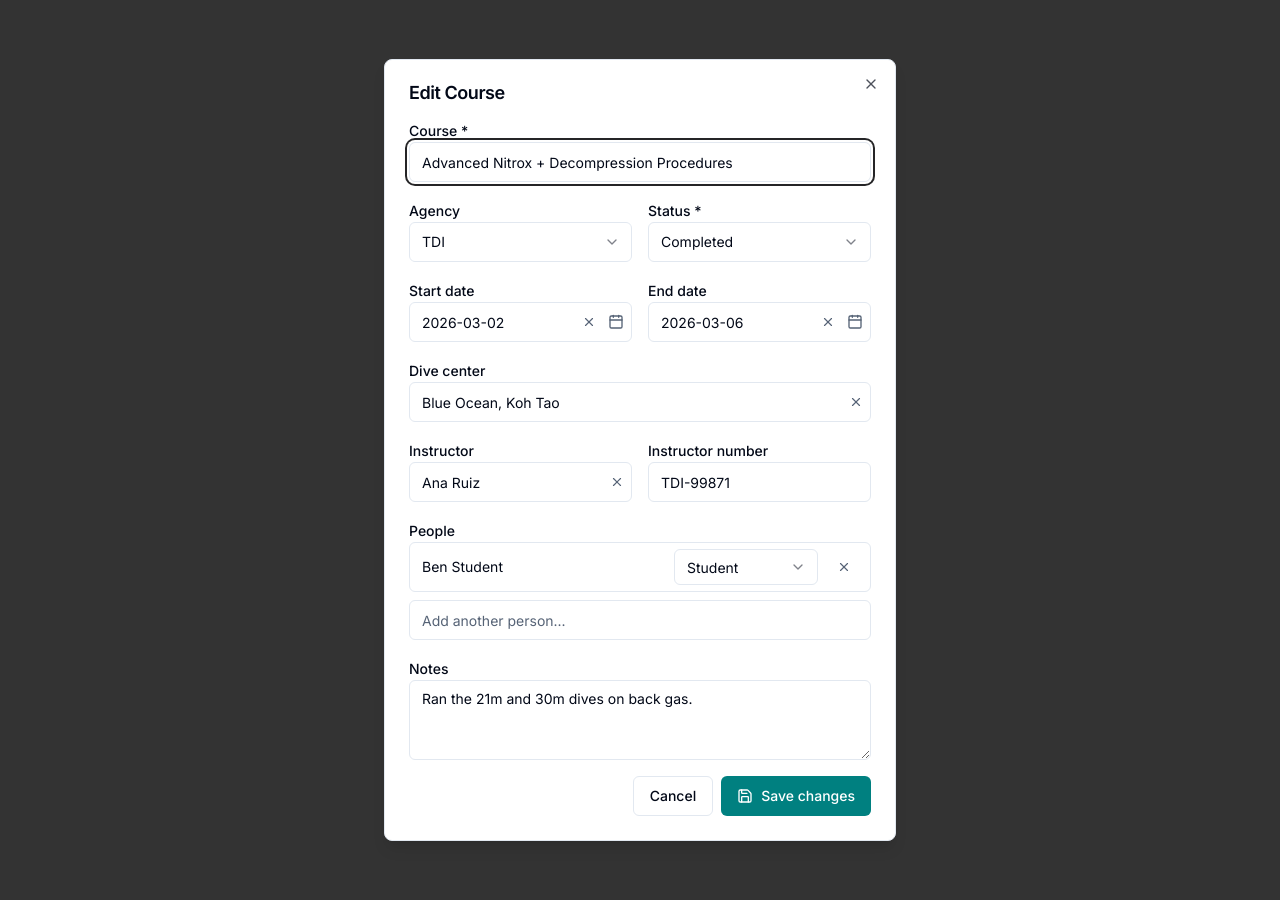
CourseDialog › asks which agency ran the course only when the agency is 'other'
Expected: the field labelled "Agency name *" is not shown
Select "Other" in the dropdown labelled "Agency" at [520, 242], box [409,222,632,262]
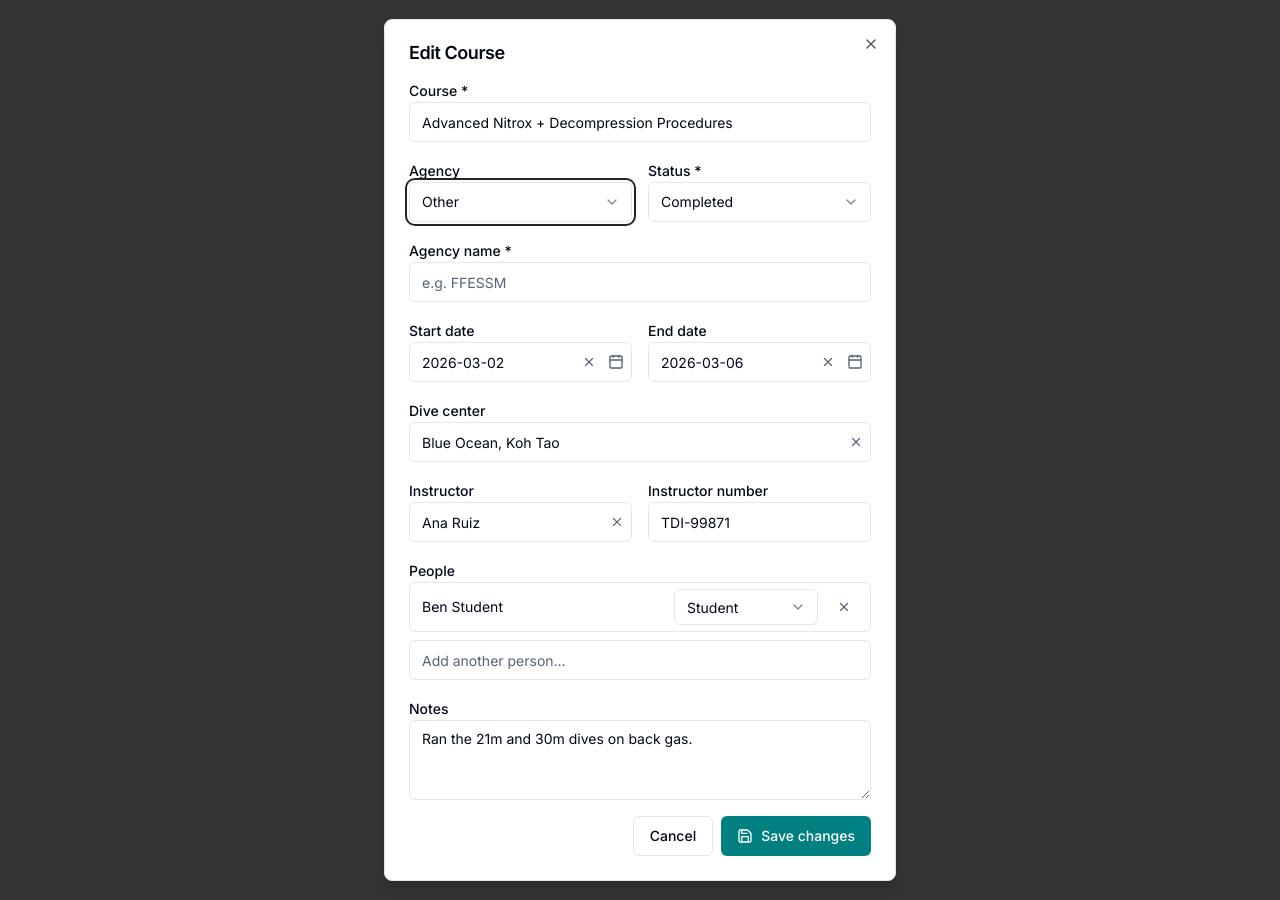
Expected: the field labelled "Agency name *" is shown, [409,262,871,302]
